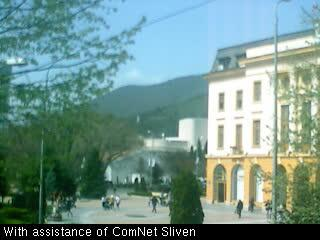person: (235, 199, 243, 218), (150, 196, 158, 214), (248, 197, 255, 216), (115, 194, 121, 210), (109, 195, 115, 210), (265, 200, 270, 218), (104, 196, 109, 211), (57, 191, 62, 206), (69, 193, 74, 208), (52, 192, 57, 205), (65, 193, 69, 207), (48, 192, 52, 205), (101, 196, 105, 208), (270, 200, 273, 215), (62, 193, 65, 206)
